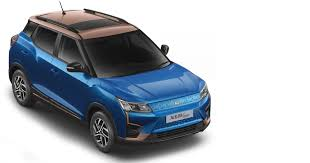XUV 400: (6, 7, 212, 156)
